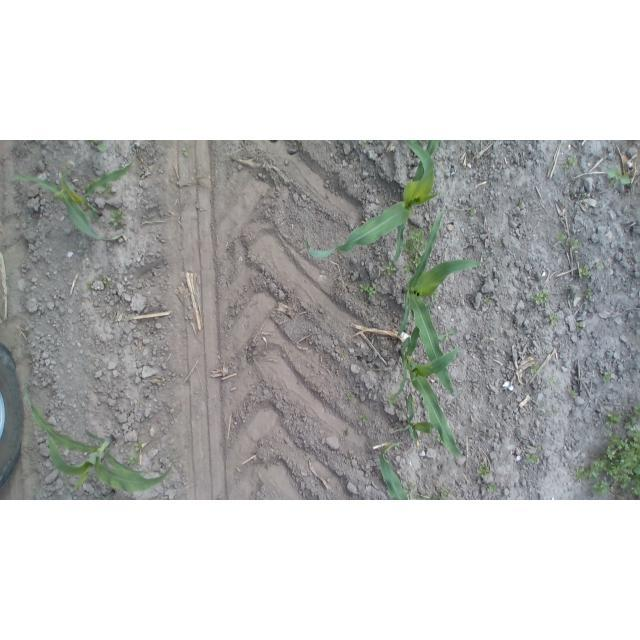Maize: (22, 379, 175, 498), (399, 210, 492, 399), (305, 140, 443, 260), (387, 304, 466, 459), (7, 159, 135, 246), (375, 440, 412, 500), (391, 394, 431, 446)
Weeds: (575, 404, 640, 500), (402, 227, 430, 258), (604, 165, 633, 187), (554, 232, 582, 251), (423, 489, 468, 500), (357, 283, 382, 302), (524, 441, 544, 464), (528, 288, 552, 307), (403, 255, 425, 273), (559, 153, 579, 171), (600, 411, 621, 428), (109, 209, 126, 229), (474, 461, 490, 480), (89, 141, 109, 154), (379, 261, 397, 275), (125, 455, 139, 469), (485, 480, 500, 493), (578, 265, 591, 280), (584, 287, 596, 302), (514, 196, 526, 210), (467, 203, 478, 217), (601, 372, 612, 385), (575, 320, 586, 333), (549, 313, 560, 326), (135, 442, 146, 454), (357, 414, 369, 424), (529, 362, 539, 374), (482, 295, 494, 305), (180, 146, 192, 156), (103, 275, 113, 287), (358, 140, 371, 149), (87, 277, 98, 287), (596, 260, 605, 272), (550, 410, 560, 419), (569, 389, 577, 400), (346, 394, 355, 402)
